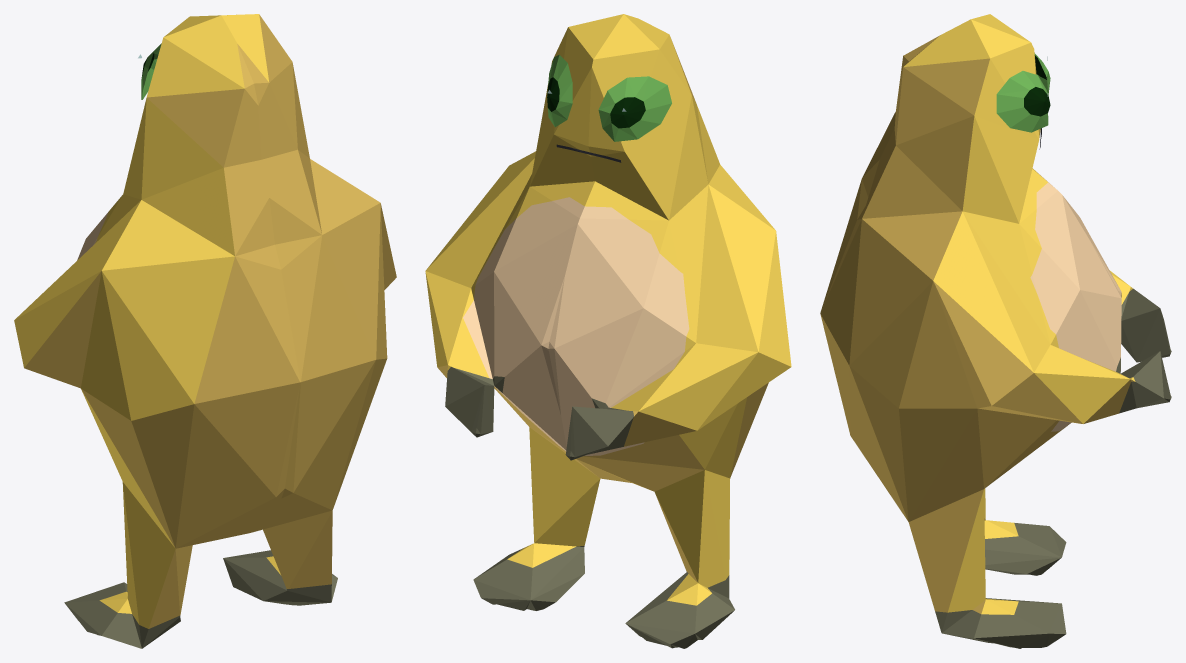
Rendered from milk_frog.obj.
The picture shows the model from 3 angles, left to right: view 1: azimuth 30°, elevation 25°; view 2: azimuth 150°, elevation 25°; view 3: azimuth 270°, elevation 25°; orthographic projection. The views are drawn at different scales.
Size of the model in its own units: 2.27 by 3.55 by 1.95.
